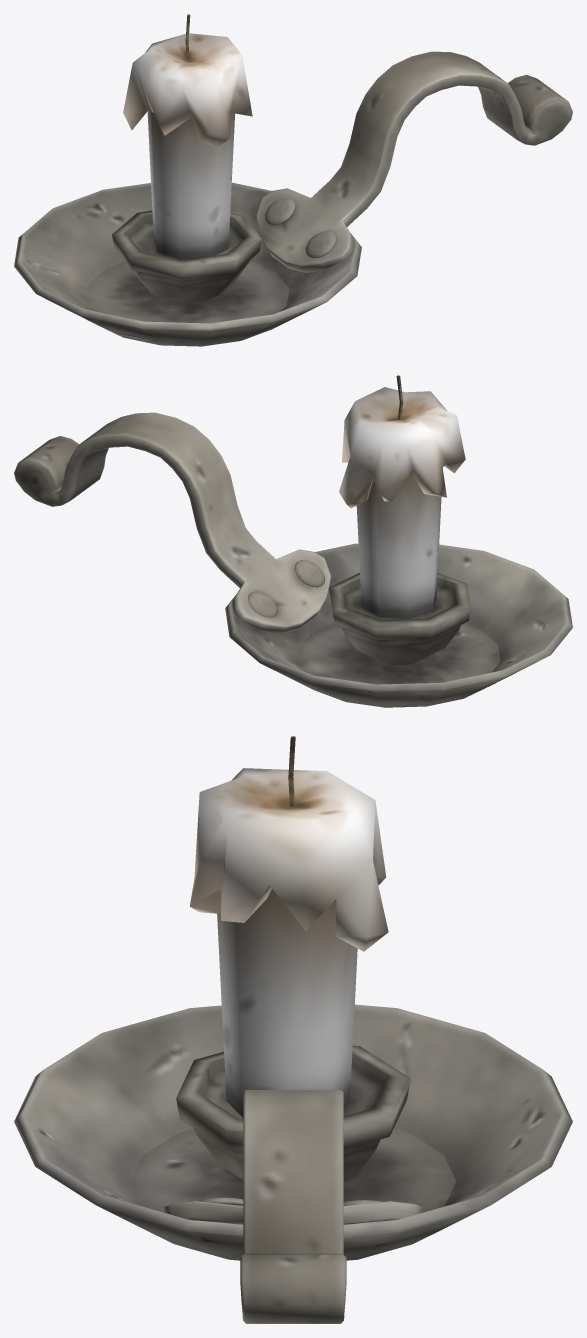
Rendered from sb_obj_indoor009_Candlestand02.fbx.
3 renders of one model, top to bottom at view 1: azimuth 30°, elevation 25°; view 2: azimuth 150°, elevation 25°; view 3: azimuth 270°, elevation 25°, orthographic. The views are drawn at different scales.
Visible parts, largest first — view 1: sb_obj_indoor009_Candlestand02; view 2: sb_obj_indoor009_Candlestand02; view 3: sb_obj_indoor009_Candlestand02.
Part boxes in pixels (x1,y1,x2,y2): sb_obj_indoor009_Candlestand02: (14, 14, 572, 346); sb_obj_indoor009_Candlestand02: (14, 375, 572, 707); sb_obj_indoor009_Candlestand02: (14, 736, 572, 1323).
Size of the model in its own units: 0.4022 by 0.2115 by 0.2343.
